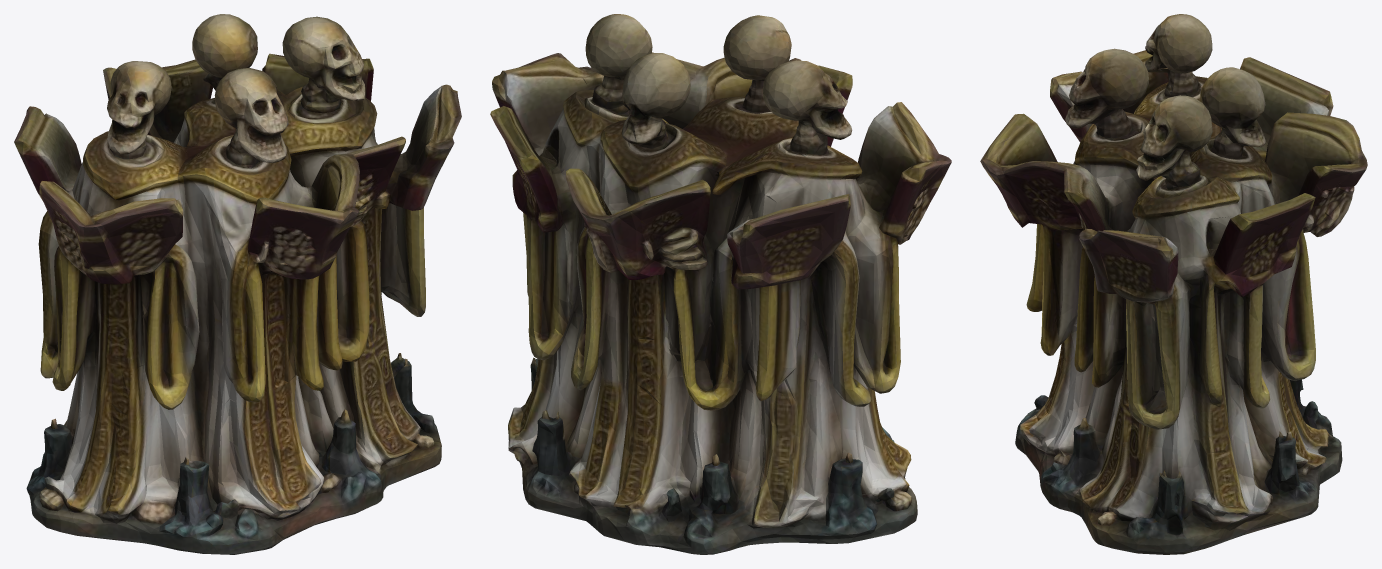
The model's file is boneChoir.glb.
The picture shows the model from 3 angles, left to right: view 1: azimuth 30°, elevation 25°; view 2: azimuth 150°, elevation 25°; view 3: azimuth 270°, elevation 25°; orthographic projection. The views are drawn at different scales.
Visible parts, largest first — view 1: world; view 2: world; view 3: world.
Part boxes in pixels (<box>): world: <box>14,14,461,554</box>; world: <box>490,14,951,554</box>; world: <box>980,14,1367,554</box>.
Bounding box in the file's own units: 0.9344 × 0.9206 × 0.7887.
1 material, 1 textured.
